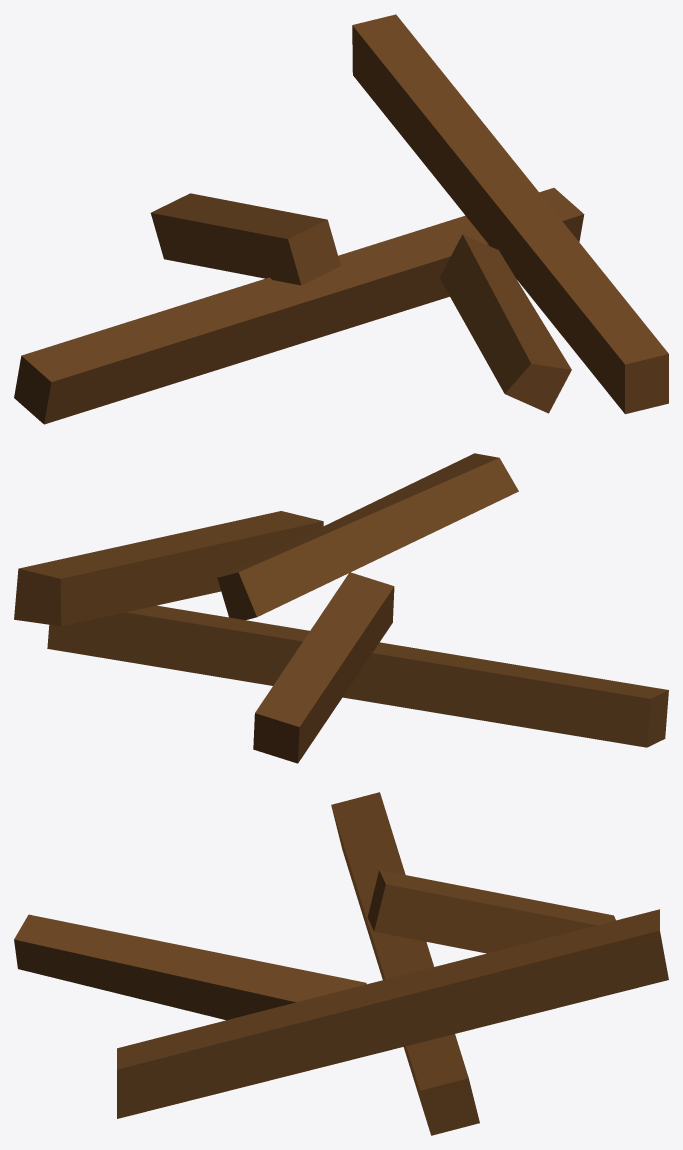
Rendered from sticks.fbx.
The picture shows the model from 3 angles, top to bottom: view 1: azimuth 30°, elevation 25°; view 2: azimuth 150°, elevation 25°; view 3: azimuth 270°, elevation 25°; orthographic projection. The views are drawn at different scales.
Parts seen in each view (by area): view 1: Stick 2, Stick 1, Stick 3, Stick 4; view 2: Stick 1, Stick 2, Stick 4, Stick 3; view 3: Stick 2, Stick 4, Stick 1, Stick 3.
Boxes of the visible parts, box(x1,y1,x2,y2) form: Stick 2: box(352, 14, 668, 414); Stick 1: box(14, 188, 584, 424); Stick 3: box(150, 193, 340, 285); Stick 4: box(439, 234, 571, 413); Stick 1: box(47, 605, 668, 747); Stick 2: box(14, 511, 323, 626); Stick 4: box(217, 453, 518, 620); Stick 3: box(253, 572, 394, 763); Stick 2: box(117, 909, 668, 1118); Stick 4: box(14, 914, 366, 1020); Stick 1: box(331, 792, 479, 1135); Stick 3: box(367, 870, 615, 953).
Size of the model in its own units: 133 by 41.27 by 130.
